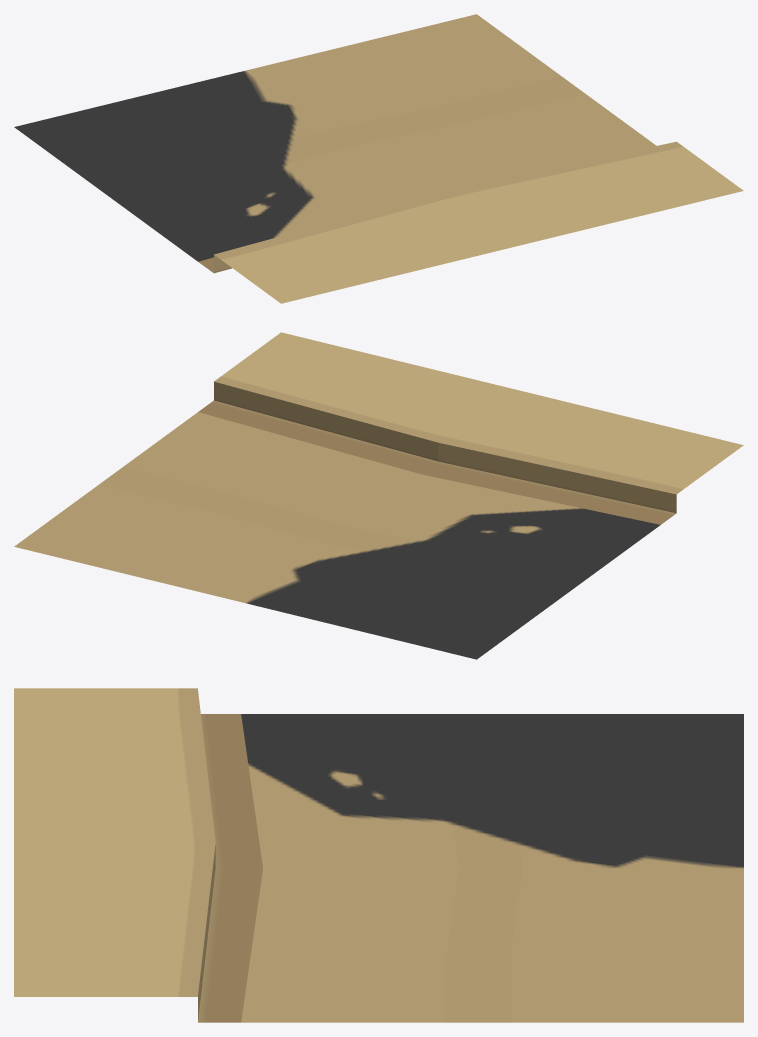
Rendered from SM_Env_Road_Dirt_Asphalt_Transition_01.fbx.
3 renders of one model, top to bottom at view 1: azimuth 30°, elevation 25°; view 2: azimuth 150°, elevation 25°; view 3: azimuth 270°, elevation 25°, orthographic. The views are drawn at different scales.
Visible parts, largest first — view 1: SM_Env_Road_Dirt_Asphalt_Transition_01; view 2: SM_Env_Road_Dirt_Asphalt_Transition_01; view 3: SM_Env_Road_Dirt_Asphalt_Transition_01.
Boxes of the visible parts, x1,y1,x2,y2 form: SM_Env_Road_Dirt_Asphalt_Transition_01: [14, 14, 743, 303]; SM_Env_Road_Dirt_Asphalt_Transition_01: [14, 332, 743, 659]; SM_Env_Road_Dirt_Asphalt_Transition_01: [14, 688, 743, 1022].
Bounding box in the file's own units: 5 × 0.1948 × 5.
